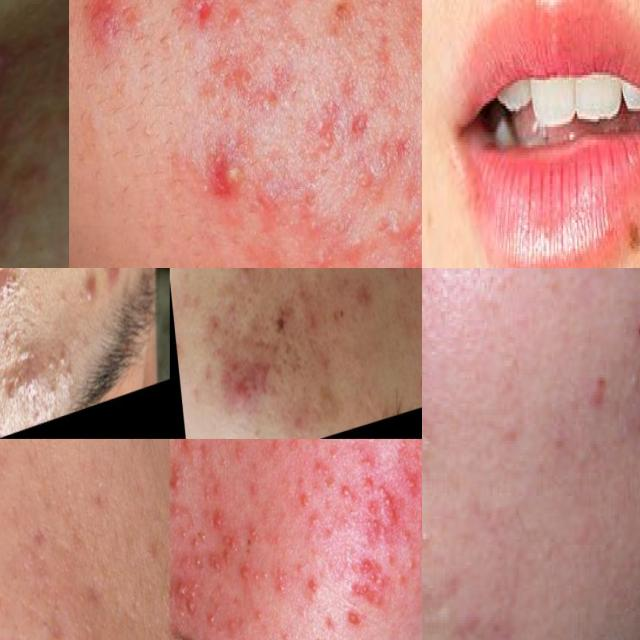acne_scars: (202, 31, 312, 136), (293, 201, 377, 268), (297, 93, 351, 173), (339, 94, 385, 151), (268, 298, 300, 338), (247, 327, 276, 365)
comedone: (216, 0, 257, 51), (41, 332, 69, 374), (3, 366, 18, 409), (62, 357, 76, 384), (43, 379, 58, 404)
papule: (69, 0, 152, 60), (224, 369, 256, 412), (389, 552, 422, 589), (94, 268, 122, 309), (392, 461, 421, 500), (303, 453, 332, 489), (78, 268, 93, 313), (301, 572, 323, 598)
pustule: (202, 140, 252, 210), (371, 198, 420, 257), (174, 566, 209, 616), (350, 273, 374, 320), (247, 557, 274, 590), (199, 608, 220, 637), (170, 462, 188, 492), (348, 579, 372, 601), (210, 504, 228, 533), (290, 488, 310, 513), (346, 604, 361, 636), (243, 520, 260, 548), (335, 478, 353, 504), (173, 523, 190, 543), (196, 523, 211, 543)
sebo-crystan-conglo: (358, 497, 381, 556), (0, 31, 17, 94), (377, 478, 398, 527)
